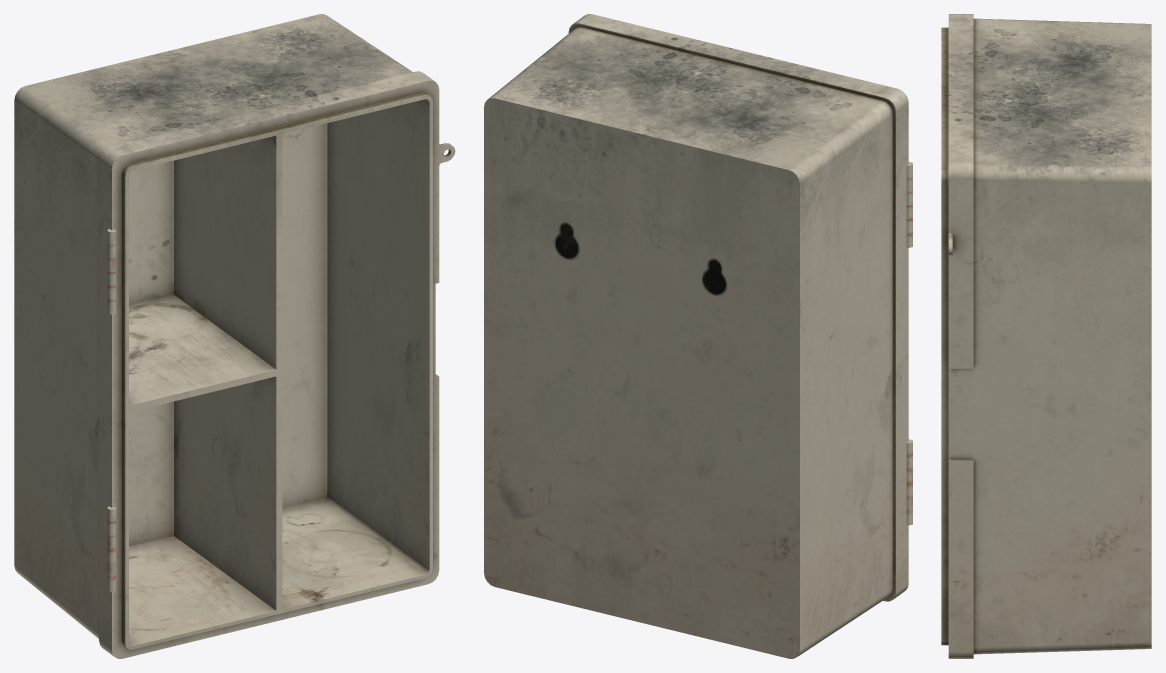
The model's file is MedicalBoxBody_01a_snaps011.fbx.
3 views of the same model, side by side, from view 1: azimuth 30°, elevation 25°; view 2: azimuth 150°, elevation 25°; view 3: azimuth 270°, elevation 25° (orthographic).
Parts seen in each view (by area): view 1: MedicalBoxBody_01a_snaps011_LOD0; view 2: MedicalBoxBody_01a_snaps011_LOD0; view 3: MedicalBoxBody_01a_snaps011_LOD0.
Part boxes in pixels (x1,y1,x2,y2): MedicalBoxBody_01a_snaps011_LOD0: [14, 14, 455, 658]; MedicalBoxBody_01a_snaps011_LOD0: [484, 14, 912, 658]; MedicalBoxBody_01a_snaps011_LOD0: [941, 14, 1151, 658].
Size of what is drawn, in the model's own units: 33.32 by 46.07 by 17.73.
